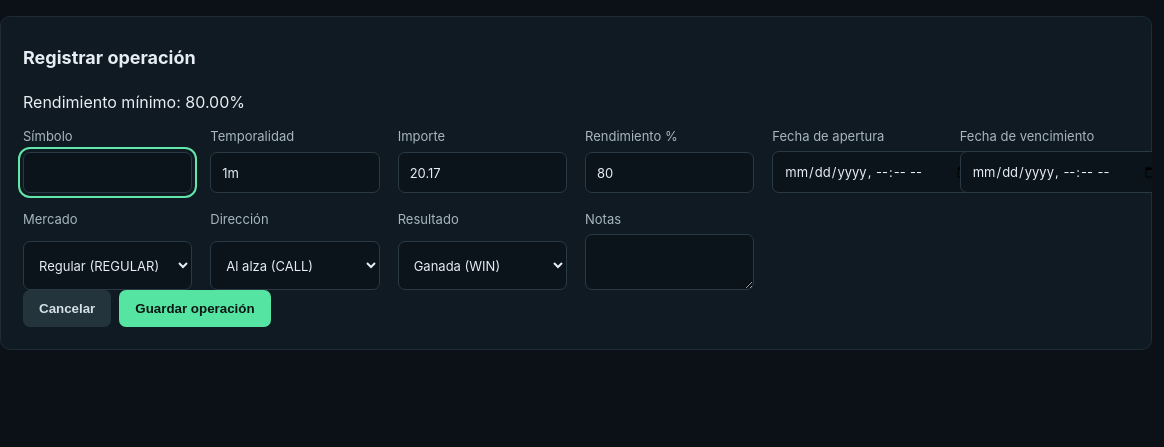
REQ-002 user workflow › submits a trade with the recommended stake and shows backend rejection
Expected: the number field labelled "Importe" holds "20.17", [398,152,567,193]
Type "EURUSD" into the field labelled "Símbolo".
click(108, 172); type("EURUSD")  # box [23,152,192,193]
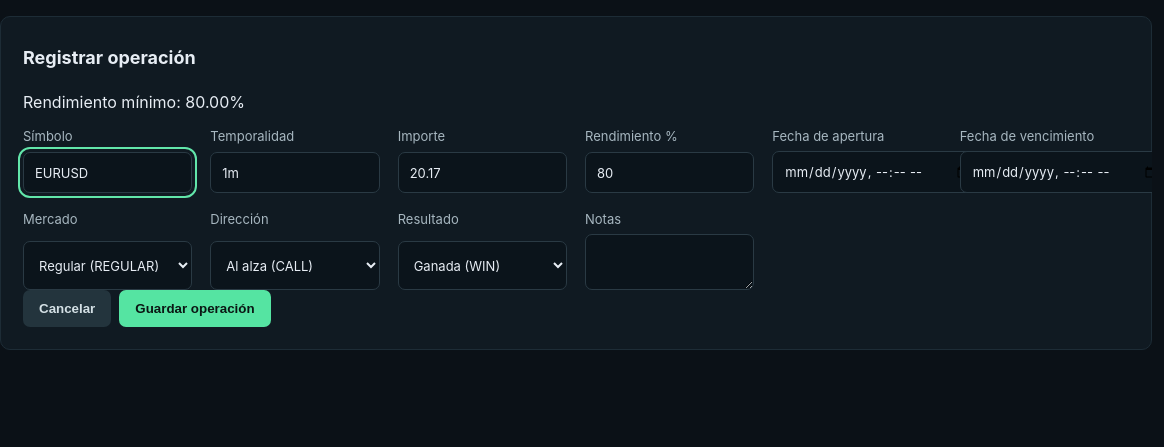
Type "2026-09-19T10:00" into the field labelled "Fecha de apertura".
click(878, 172); type("2026-09-19T10:00")  # box [772,151,983,193]
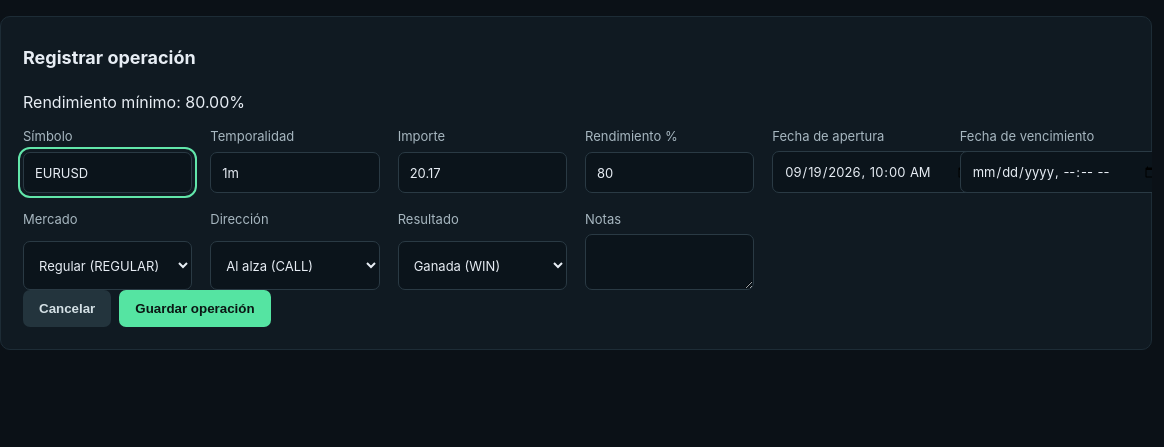
Replace the text in the number field labelled "Importe" with "20.18" at (482, 172), box [398,152,567,193]
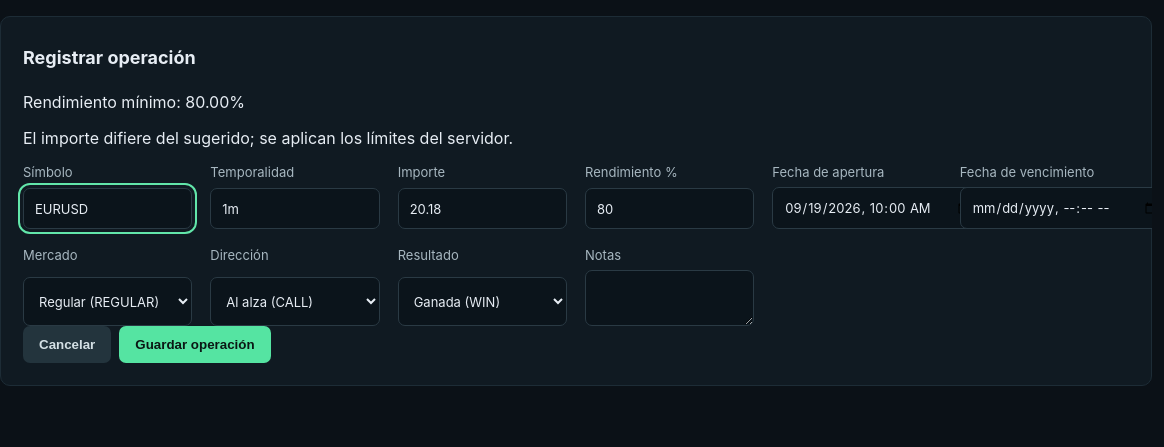
Click the button "Guardar operación".
click(195, 344)  # box [119,326,271,363]
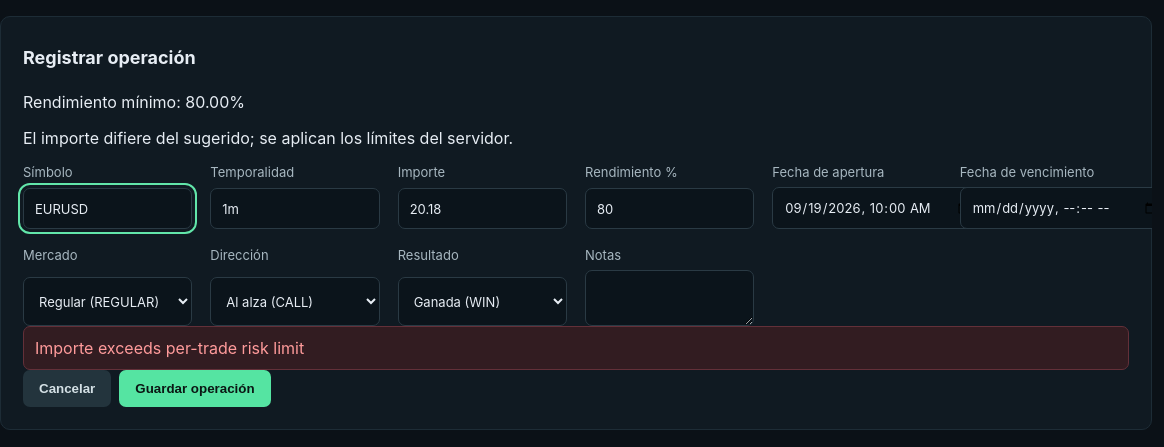
Now the text "Importe exceeds per-trade risk limit" is shown, box [23,326,1129,370]
